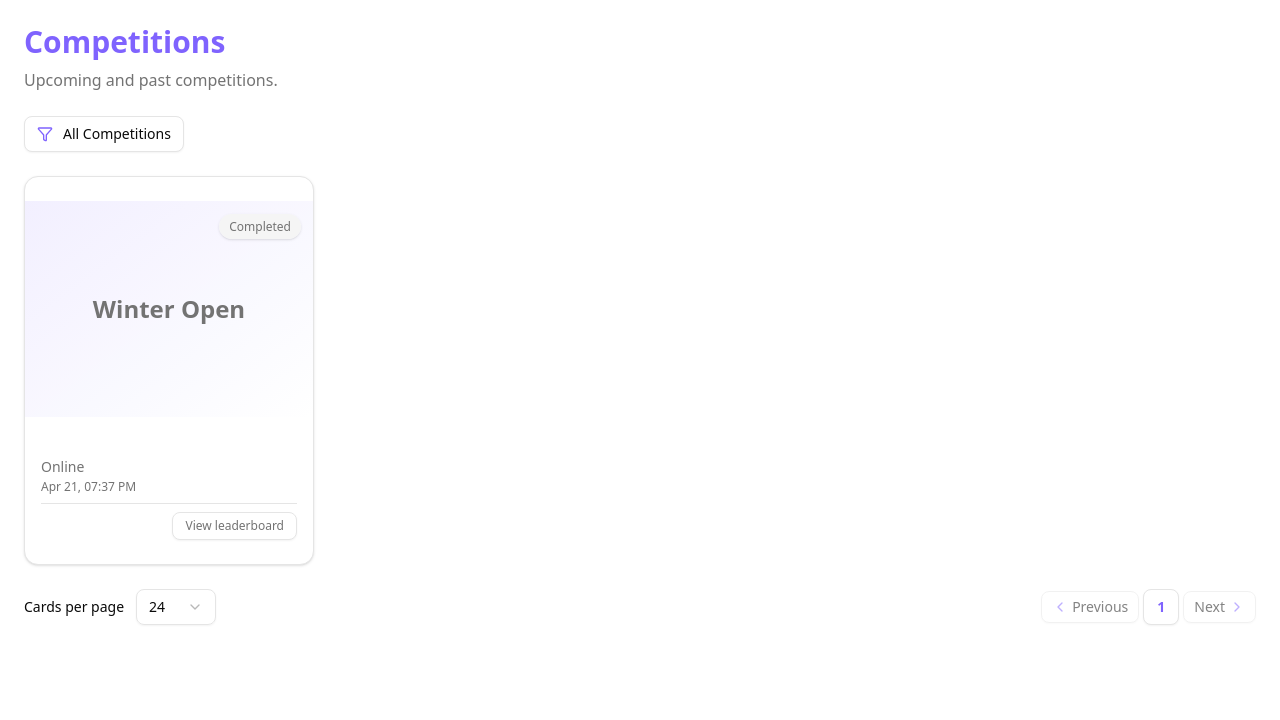
it: CompetitionsPage › opens the leaderboard modal when 'View leaderboard' is clicked
What coordinates should you click on to do the following:
click the button "View leaderboard"
I would click on:
 (235, 526)
Its box is [172,512,297,540].
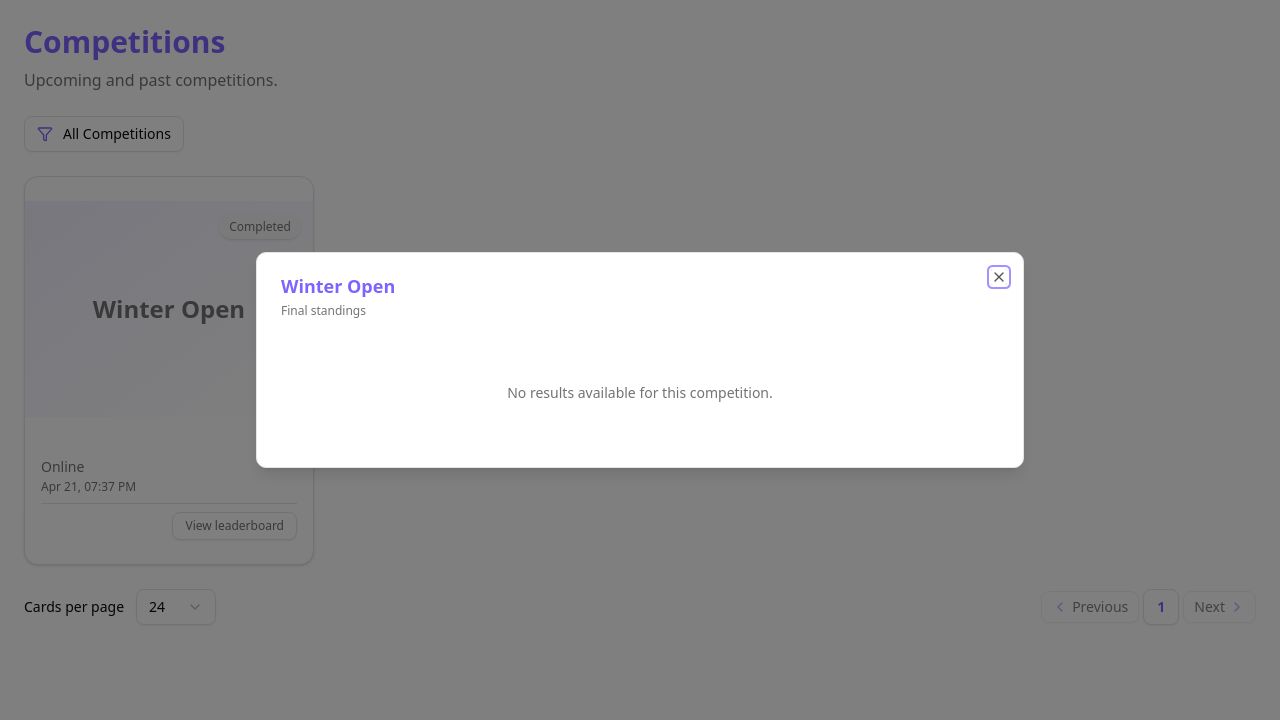
Result: the dialog is shown at [256,252,1024,468]
